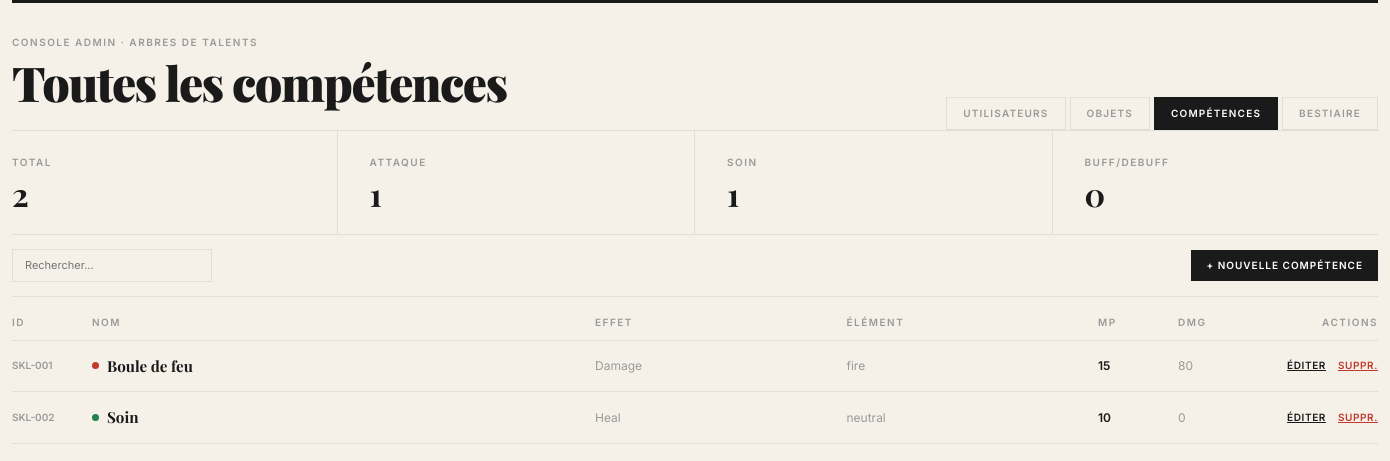
AdminSkillsView › filtre par type d'effet
This screenshot has width=1390, height=461.
Type "heal" into the field with placeholder "Rechercher...". click: point(112, 265)
box: left=12, top=249, right=212, bottom=282
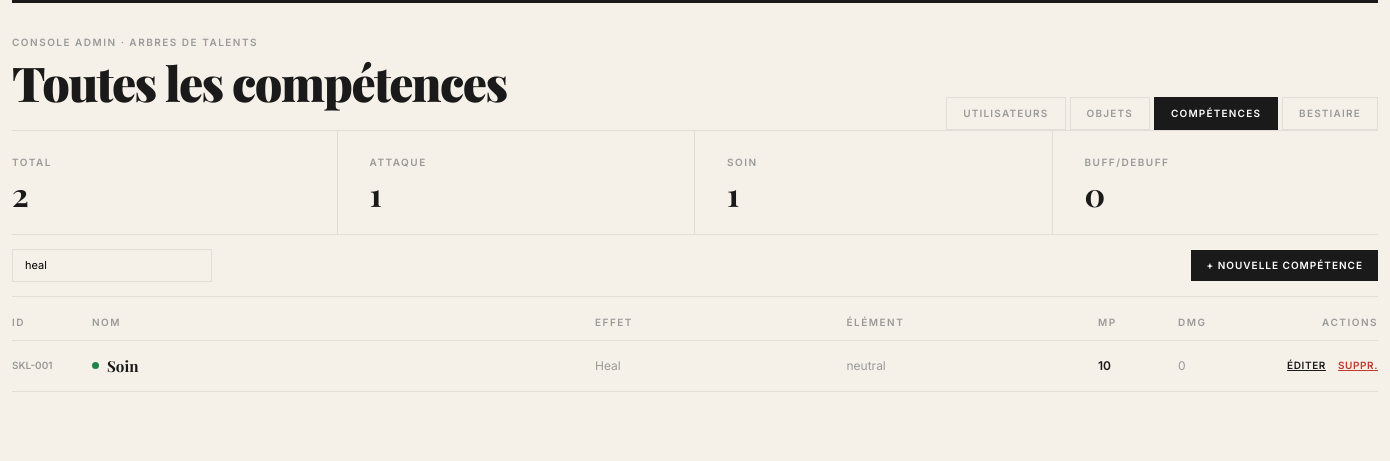
Expected: the text "Soin" is shown, left=727, top=156, right=758, bottom=168
Expected: the text "Boule" is gone
